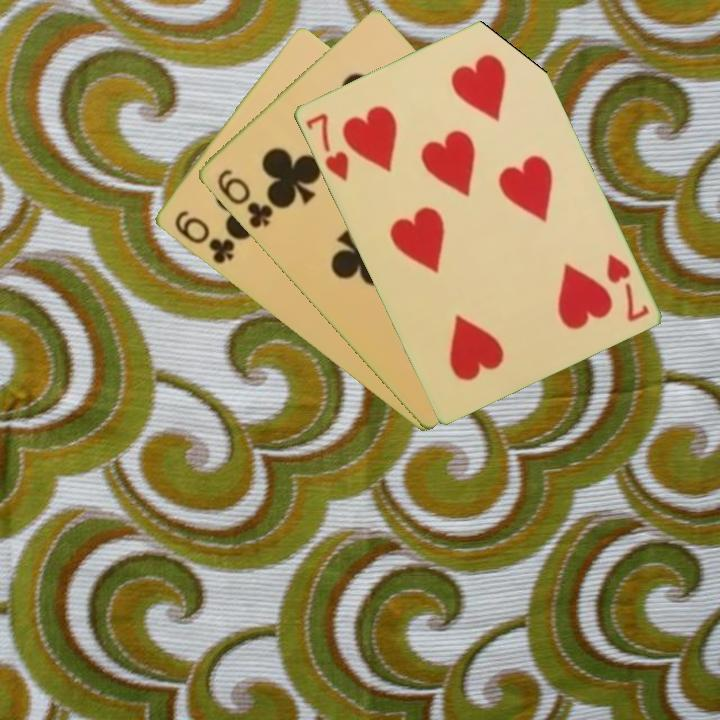6c: (213, 165, 276, 231), (170, 206, 237, 267)
7h: (301, 109, 351, 185), (602, 250, 652, 325)
